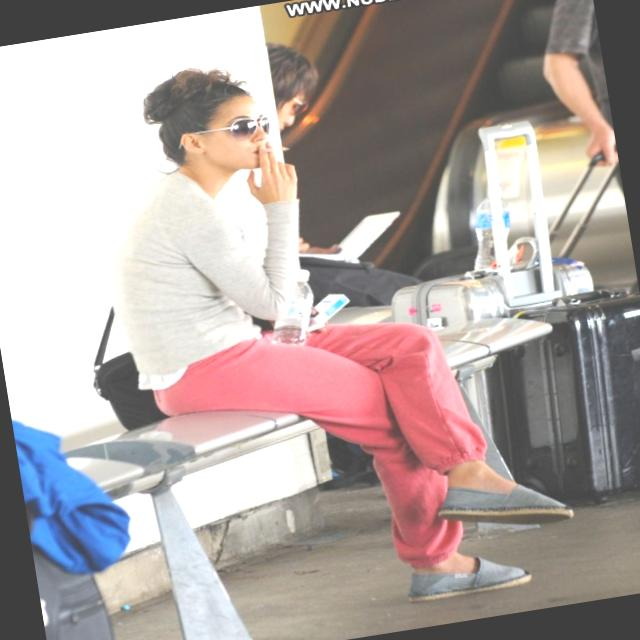smoke: (257, 138, 290, 164)
